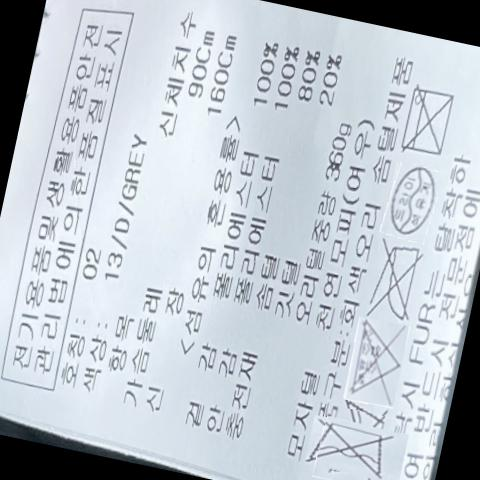DN_bleach: (348, 321, 409, 396)
DN_iron: (371, 242, 428, 319)
DN_wash: (311, 425, 395, 479), (399, 86, 458, 157)
dry_clean_petrol_only: (388, 164, 442, 236)
